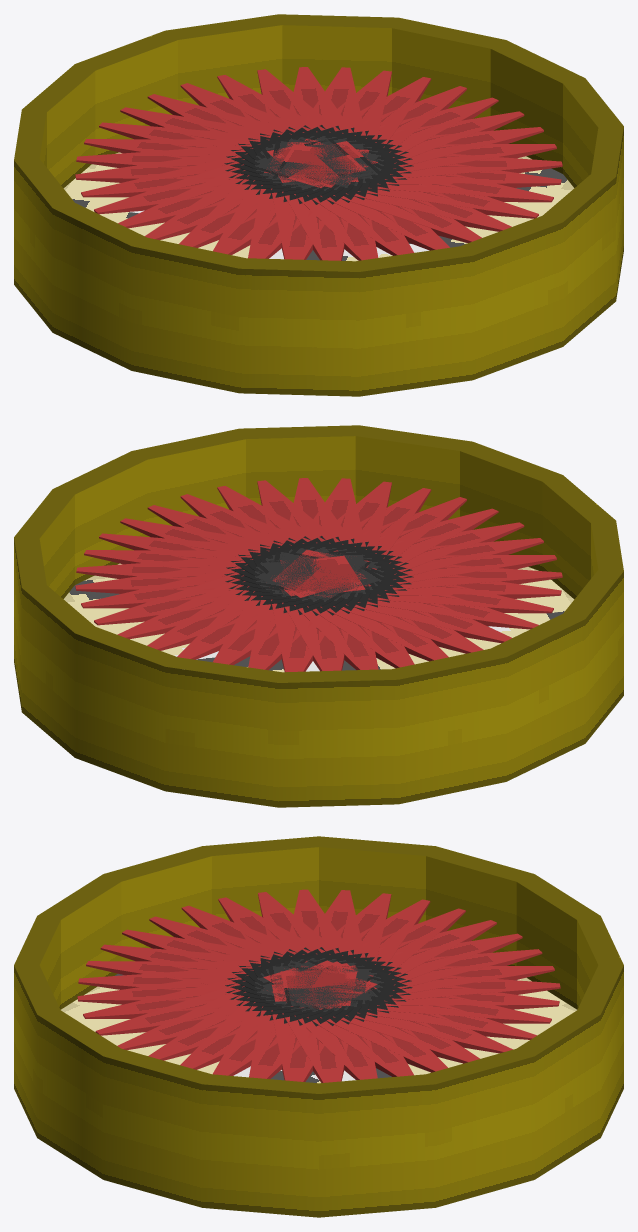
The model's file is compass.obj.
3 views of the same model, one above another, from view 1: azimuth 30°, elevation 25°; view 2: azimuth 150°, elevation 25°; view 3: azimuth 270°, elevation 25° (orthographic).
Parts seen in each view (by area): view 1: face, 33, 21, 10, 24, 6, 35, 3, 20, 18, 2, 19 (+25 smaller); view 2: face, 32, 28, 35, 14, 17, 5, 11, 31, 10, 29, 36 (+25 smaller); view 3: face, 31, 7, 6, 24, 8, 32, 20, 9, 30, 10, 1 (+25 smaller).
Part boxes in pixels (x1,y1,x2,y2): face: (14,14,623,396); 33: (94,135,381,214); 21: (226,139,511,231); 10: (272,70,391,204); 24: (248,138,414,255); 6: (217,75,389,191); 35: (75,141,401,182); 3: (120,107,411,186); 20: (224,161,538,218); 18: (229,149,561,187); 2: (99,122,413,185); 19: (225,164,553,202); face: (14,425,623,807); 32: (224,552,538,629); 28: (244,555,556,600); 35: (238,549,448,661); 14: (99,533,413,586); 17: (180,494,399,598); 5: (213,536,370,665); 11: (75,552,401,593); 31: (225,575,553,613); 10: (81,549,393,608); 29: (235,560,562,596); 36: (248,549,414,668); face: (14,836,623,1217); 31: (258,892,377,1017); 7: (226,965,551,1023); 6: (230,971,559,1009); 24: (78,965,407,1001); 8: (225,963,536,1039); 32: (280,889,369,1021); 20: (117,953,368,1049); 9: (227,961,512,1053); 30: (218,897,388,1013); 10: (232,960,479,1063); 1: (261,920,496,1023).
Bounding box in the file's own units: 0.7396 × 0.1653 × 0.7396.
